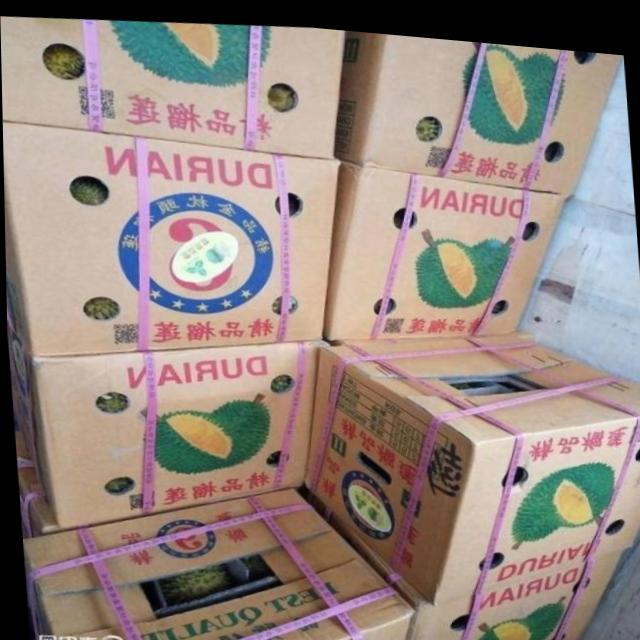box: (300, 320, 640, 596), (2, 123, 336, 357), (7, 327, 320, 527), (22, 482, 415, 640), (303, 486, 622, 640), (0, 19, 352, 153), (341, 24, 624, 187), (323, 156, 574, 337)
